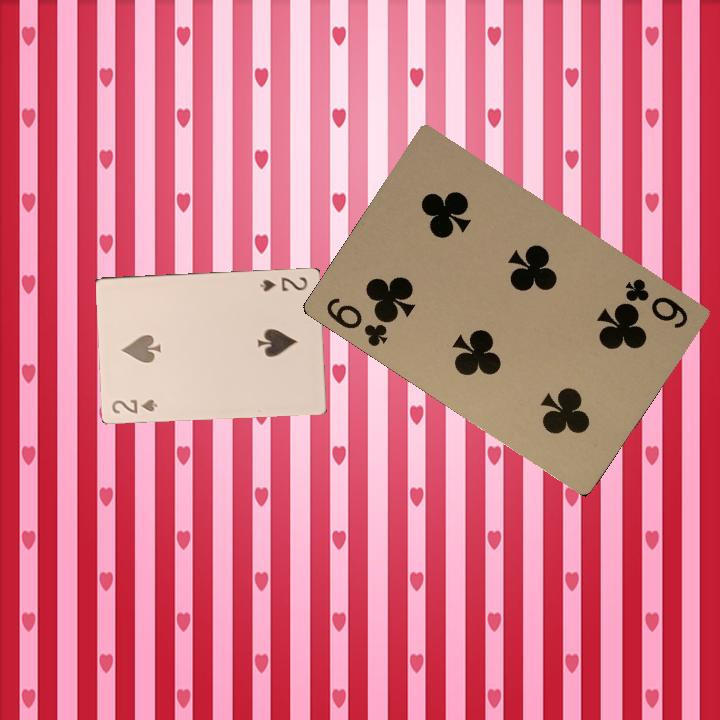2s: (108, 395, 160, 416), (258, 273, 309, 294)
6c: (621, 272, 691, 331), (322, 293, 393, 349)
